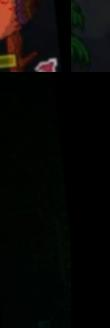tree: (0, 0, 71, 72), (71, 0, 110, 72)
